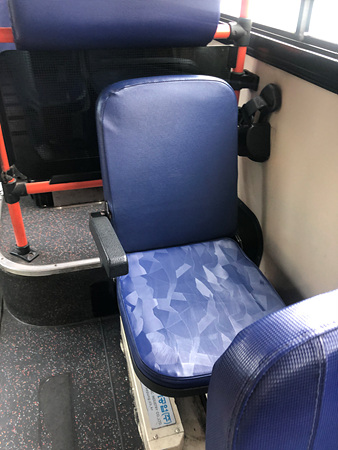seat: (101, 73, 289, 376)
